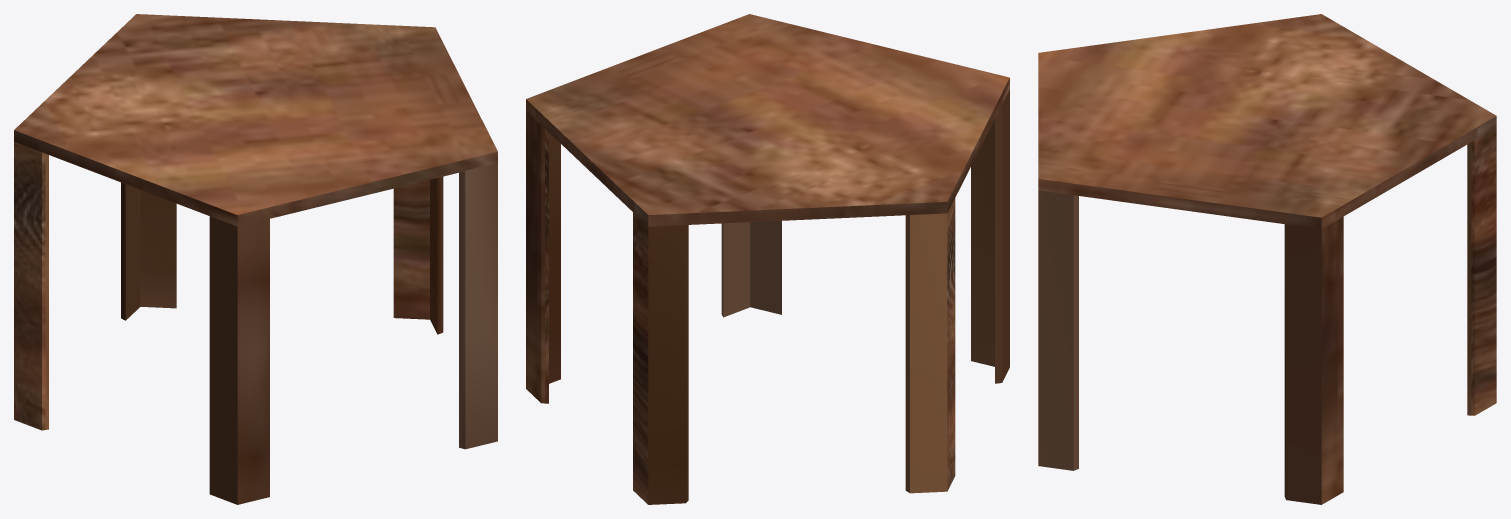
The model's file is pentagon.fbx.
3 views of the same model, side by side, from view 1: azimuth 30°, elevation 25°; view 2: azimuth 150°, elevation 25°; view 3: azimuth 270°, elevation 25° (orthographic).
Parts seen in each view (by area): view 1: Cylinder; view 2: Cylinder; view 3: Cylinder.
Boxes of the visible parts, <box> form: Cylinder: <box>14,14,497,504</box>; Cylinder: <box>526,14,1009,504</box>; Cylinder: <box>1038,14,1496,504</box>.
Bounding box in the file's own units: 1902 × 1250 × 1809.
